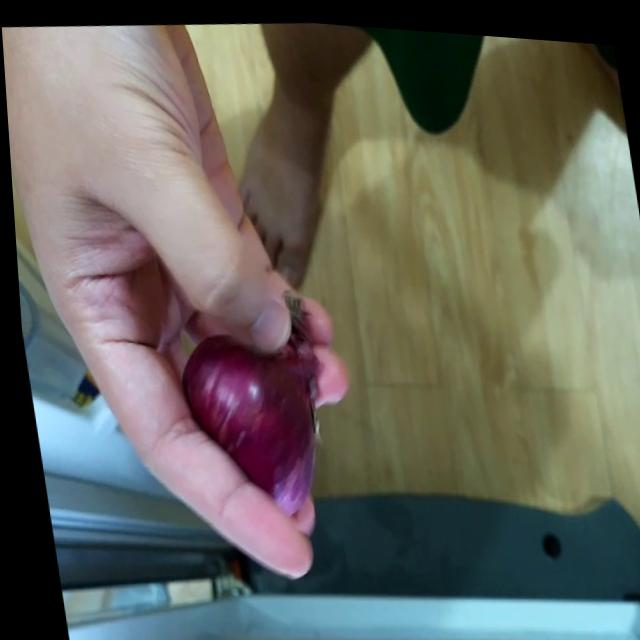onion: (176, 324, 340, 529)
